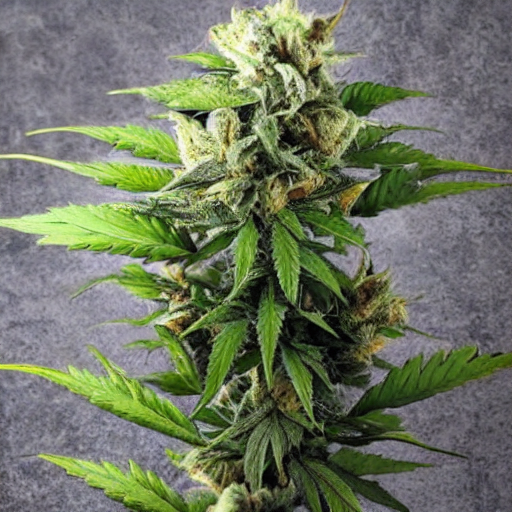Marijuana Joint: (43, 1, 502, 474)
